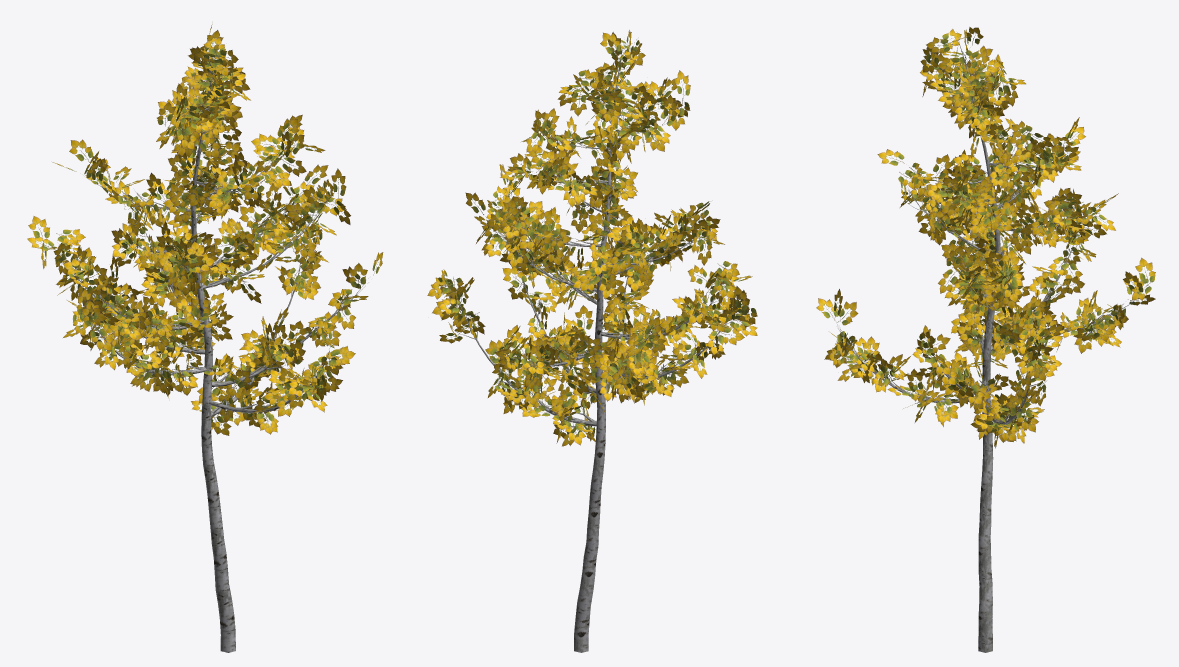
Rendered from aspen1.glb.
3 views of the same model, side by side, from view 1: azimuth 30°, elevation 25°; view 2: azimuth 150°, elevation 25°; view 3: azimuth 270°, elevation 25° (orthographic). The views are drawn at different scales.
Visible parts, largest first — view 1: Object_6, Object_4; view 2: Object_6, Object_4; view 3: Object_6, Object_4.
Part boxes in pixels (x1,y1,x2,y2): Object_6: (27, 24, 383, 435); Object_4: (65, 43, 368, 652); Object_6: (427, 30, 757, 446); Object_4: (453, 39, 740, 652); Object_6: (816, 27, 1155, 448); Object_4: (836, 34, 1141, 652).
Bounding box in the file's own units: 7.7 × 15 × 7.92.
2 materials, 2 textured.
